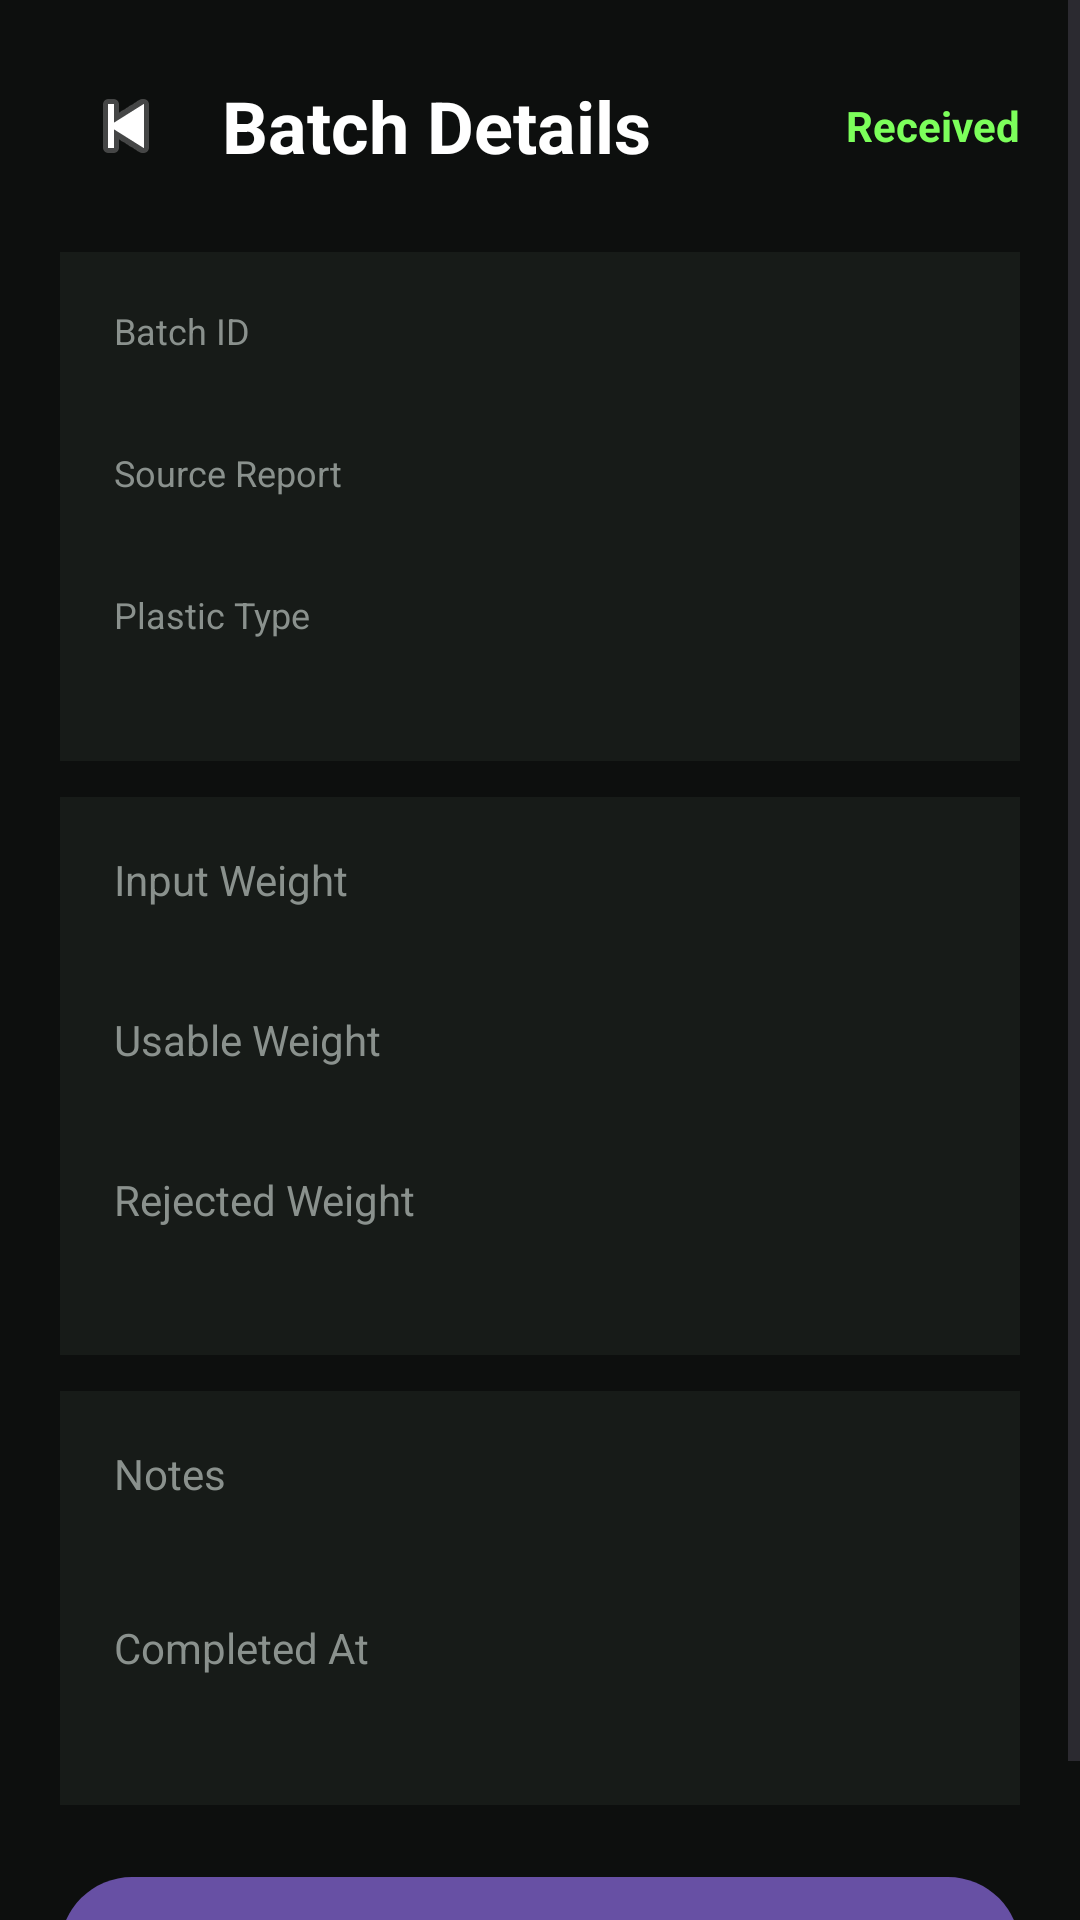

Where icons sit on this 1080px×1920px app screen, as (x1=x1, y1=y1, x2=x2, y2=y2):
Back: (x1=103, y1=99, x2=149, y2=153)
